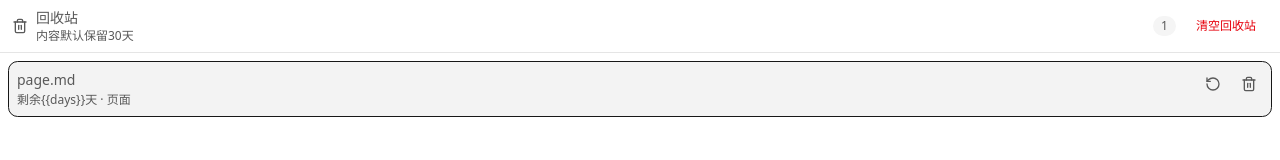
Test: TrashPanel › 永久删除：stopPropagation 且选中项被清空
Click the button titled "永久删除" at (1249, 84), box [1235,70,1263,98]
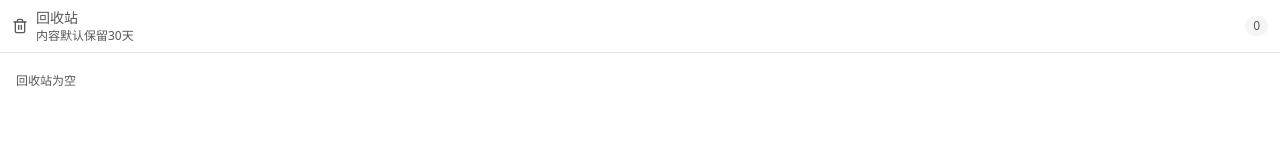
Expected: the text "回收站为空" is shown, [16,72,76,89]
